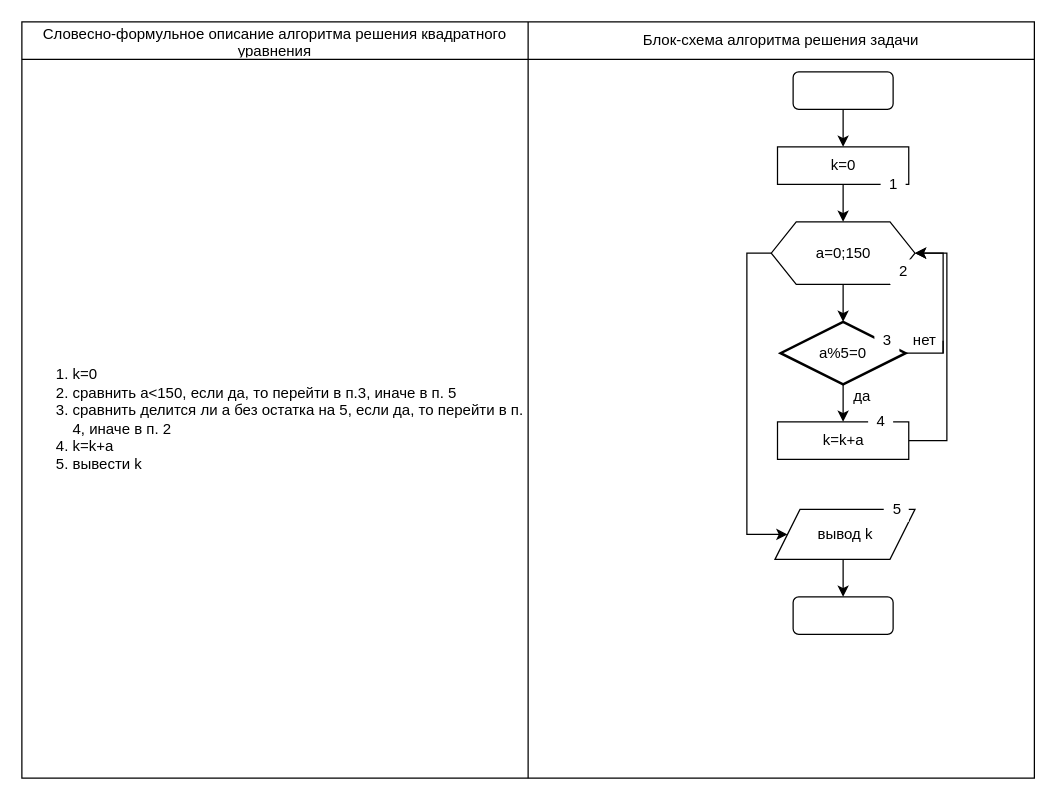
This 1056x800 diagram has some shape labels left out. Here are the shapes that lost their labels. From the top down, the centre of each, then its label:
(x=842, y=90): начало
(x=842, y=615): конец
